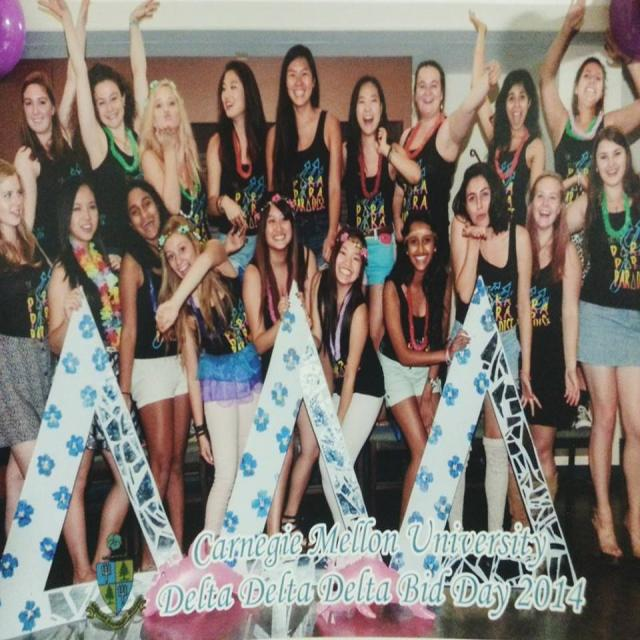body: (437, 159, 545, 592), (535, 0, 640, 433), (154, 212, 265, 556), (47, 172, 138, 588), (564, 122, 640, 563), (34, 0, 162, 256), (375, 207, 473, 534), (118, 177, 194, 573), (241, 196, 324, 552), (389, 54, 501, 276), (309, 225, 386, 540), (0, 155, 58, 548), (12, 0, 91, 274), (524, 168, 586, 494), (338, 73, 410, 352), (465, 5, 548, 231), (265, 42, 344, 272), (205, 59, 277, 274), (136, 77, 213, 255)
